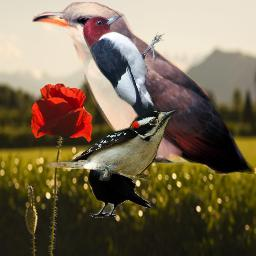Crow: (84, 149, 153, 218)
Cuckoo: (32, 2, 255, 176)
Woodpecker: (45, 105, 179, 181), (82, 14, 166, 124)
